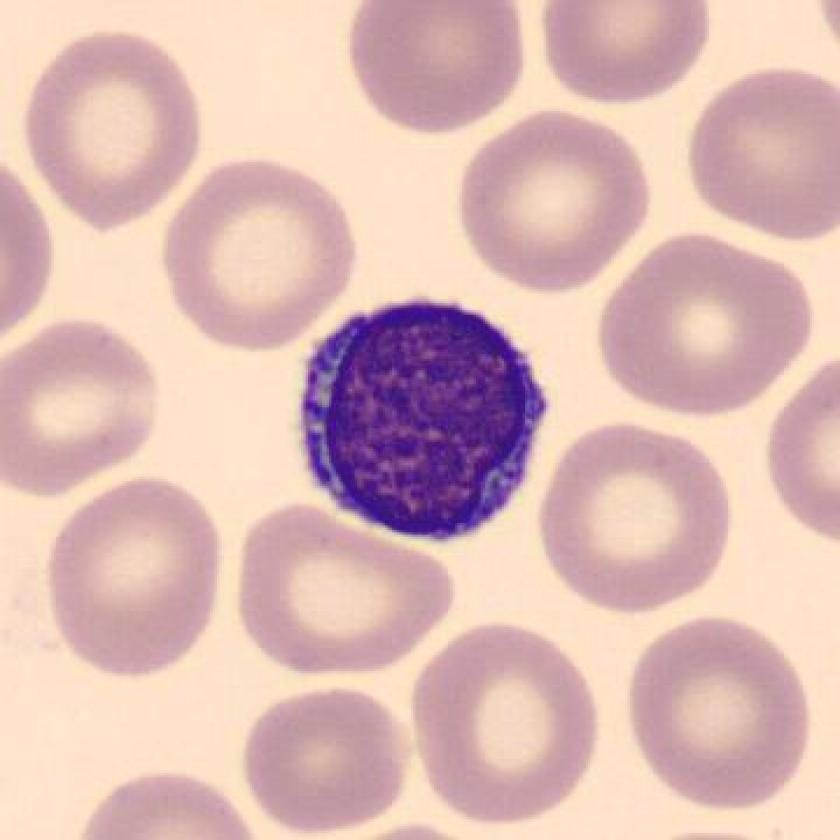lymphocyte: (281, 286, 566, 556)
